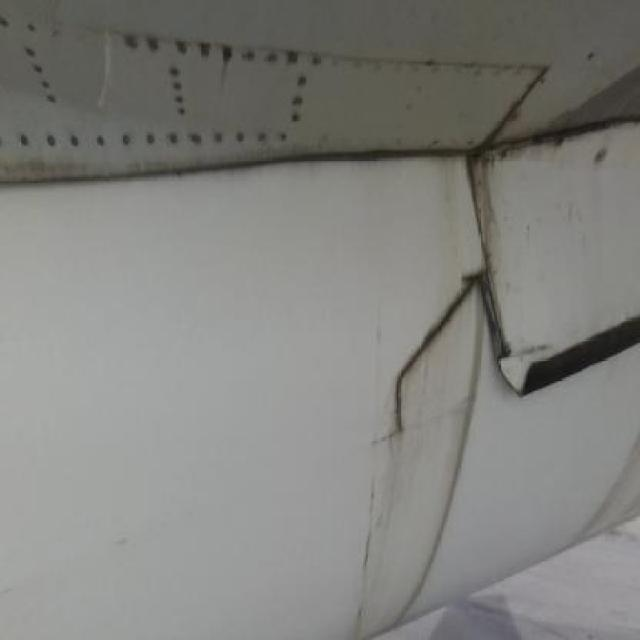Missing-Rivet: (2, 7, 344, 156)
Rust: (340, 274, 488, 640), (432, 138, 576, 417)
